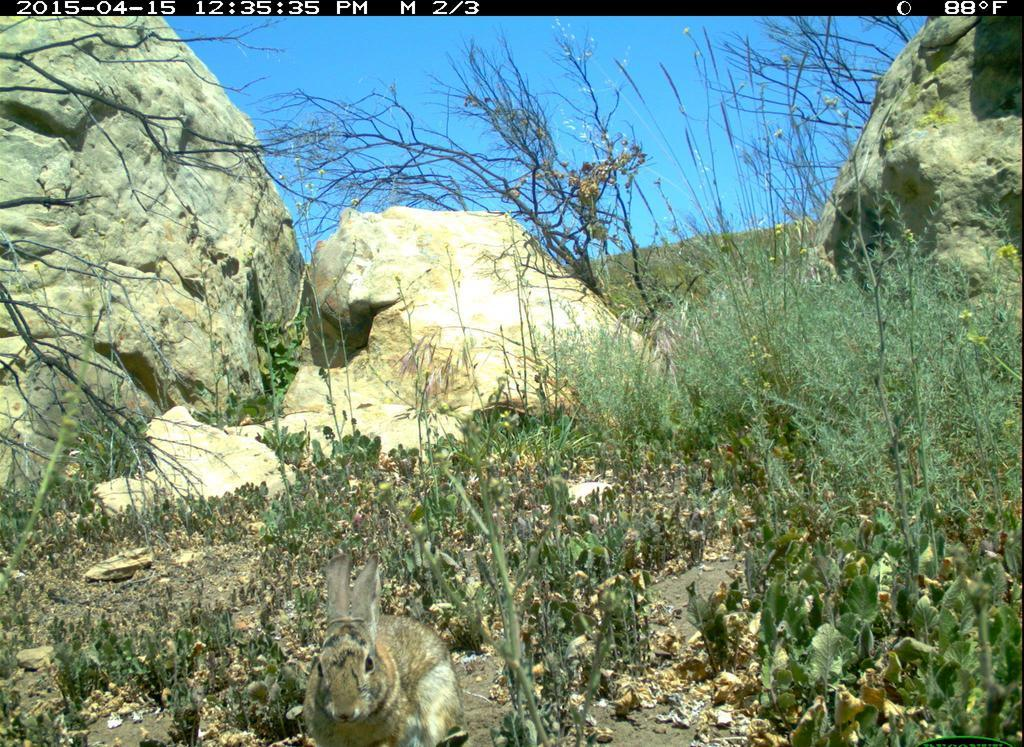rabbit: (295, 543, 489, 747)
